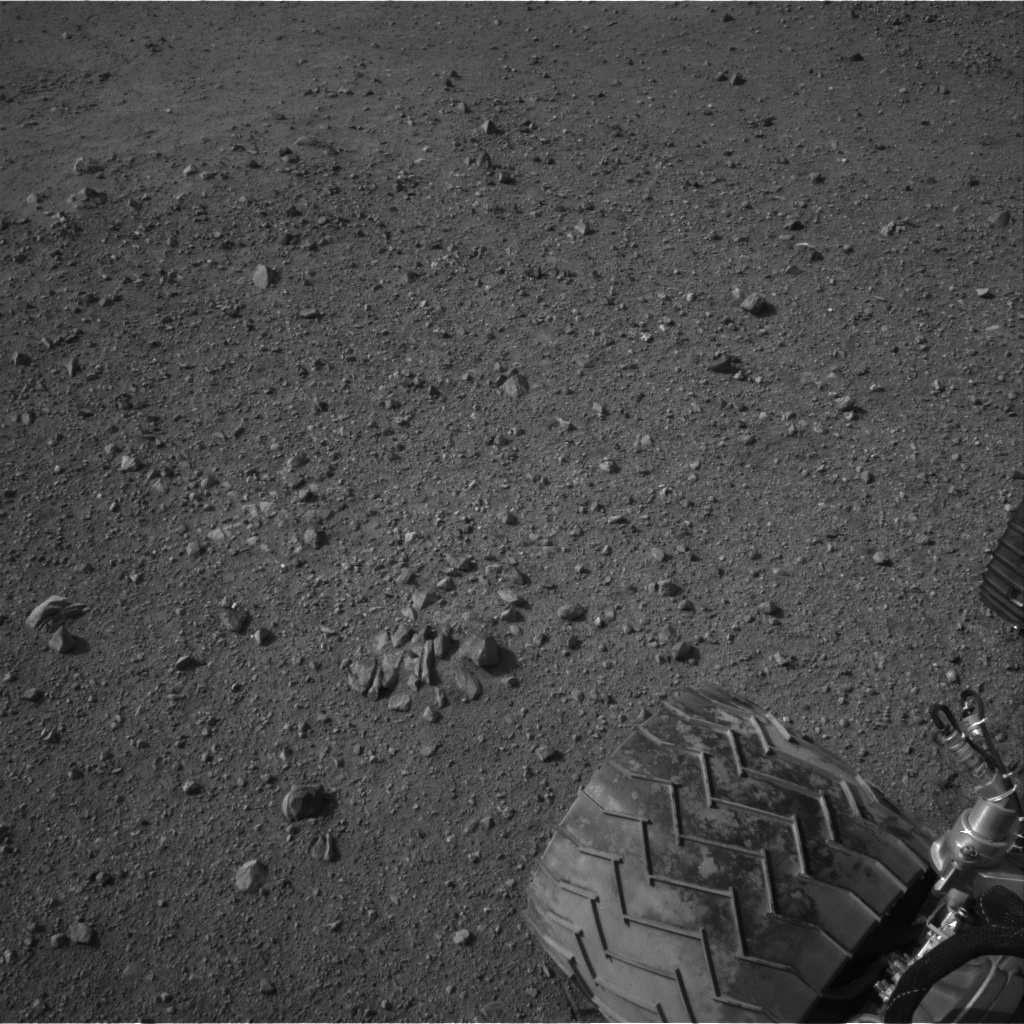soil: (5, 10, 1019, 1016)
